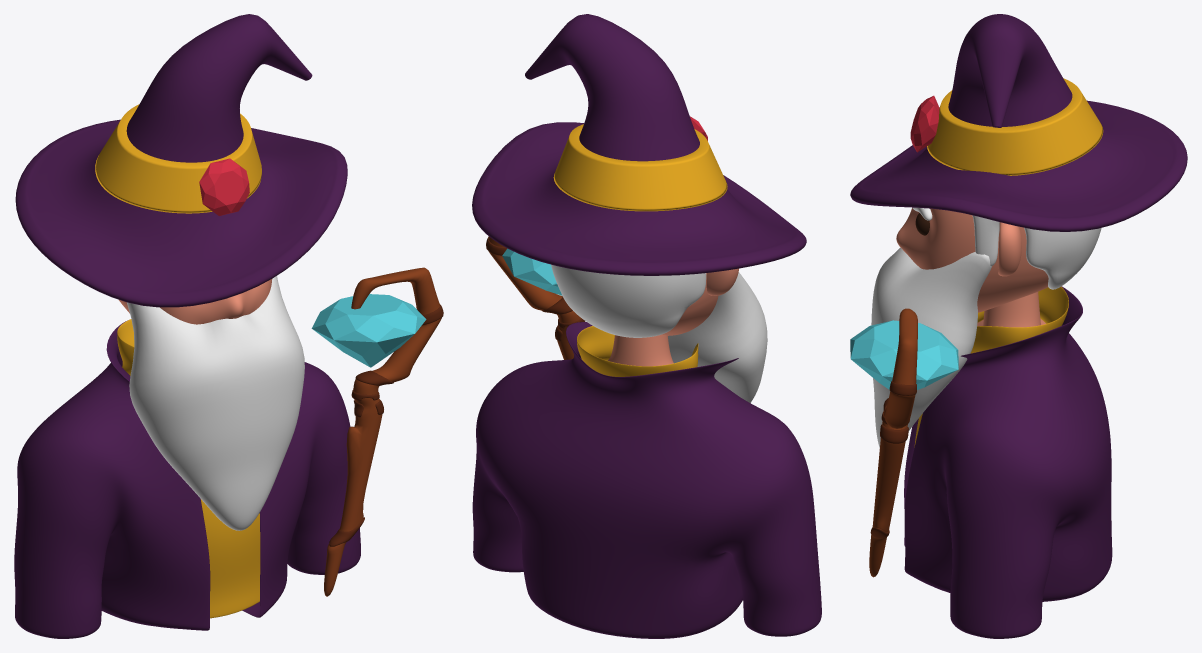
Rendered from Wizard.glb.
The picture shows the model from 3 angles, left to right: view 1: azimuth 30°, elevation 25°; view 2: azimuth 150°, elevation 25°; view 3: azimuth 270°, elevation 25°; orthographic projection.
Parts seen in each view (by area): view 1: Shirt.002, Cube.006, Cube.001, Cube.003, Cube.007, Shirt, Gem.001, Gem, Cube, Cube.004; view 2: Shirt.002, Cube.006, Cube.007, Cube.008, Cube.001, Shirt, Body, Cube.003, Gem.001, Cube, Cube.005, Cube.004; view 3: Shirt.002, Cube.006, Cube.001, Cube.007, Cube, Cube.003, Gem.001, Cube.008, Shirt, Body, Gem, Cube.005 (+1 smaller).
Boxes of the visible parts, left/top/right/bottom form: Shirt.002: left=14, top=320, right=360, bottom=638; Cube.006: left=15, top=14, right=347, bottom=307; Cube.001: left=127, top=276, right=304, bottom=530; Cube.003: left=324, top=267, right=441, bottom=596; Cube.007: left=95, top=104, right=261, bottom=213; Shirt: left=117, top=319, right=260, bottom=618; Gem.001: left=311, top=294, right=426, bottom=367; Gem: left=199, top=158, right=249, bottom=215; Cube: left=119, top=279, right=272, bottom=324; Cube.004: left=351, top=304, right=443, bottom=417; Shirt.002: left=472, top=322, right=821, bottom=638; Cube.006: left=472, top=14, right=806, bottom=275; Cube.007: left=553, top=124, right=727, bottom=211; Cube.008: left=551, top=264, right=706, bottom=337; Cube.001: left=668, top=272, right=767, bottom=402; Shirt: left=577, top=326, right=698, bottom=376; Body: left=607, top=334, right=673, bottom=366; Cube.003: left=488, top=236, right=581, bottom=359; Gem.001: left=502, top=248, right=562, bottom=295; Cube: left=662, top=273, right=718, bottom=335; Cube.005: left=706, top=268, right=738, bottom=295; Cube.004: left=486, top=236, right=585, bottom=341; Shirt.002: left=904, top=286, right=1112, bottom=638; Cube.006: left=850, top=14, right=1187, bottom=231; Cube.001: left=871, top=247, right=991, bottom=447; Cube.007: left=927, top=78, right=1103, bottom=175; Cube: left=896, top=208, right=1048, bottom=312; Cube.003: left=869, top=308, right=917, bottom=577; Gem.001: left=850, top=320, right=958, bottom=389; Cube.008: left=972, top=215, right=1101, bottom=289; Shirt: left=914, top=286, right=1068, bottom=447; Body: left=977, top=292, right=1045, bottom=327; Gem: left=910, top=95, right=939, bottom=152; Cube.005: left=998, top=222, right=1021, bottom=276.
Bounding box in the file's own units: 0.6839 × 0.9871 × 0.5266.
